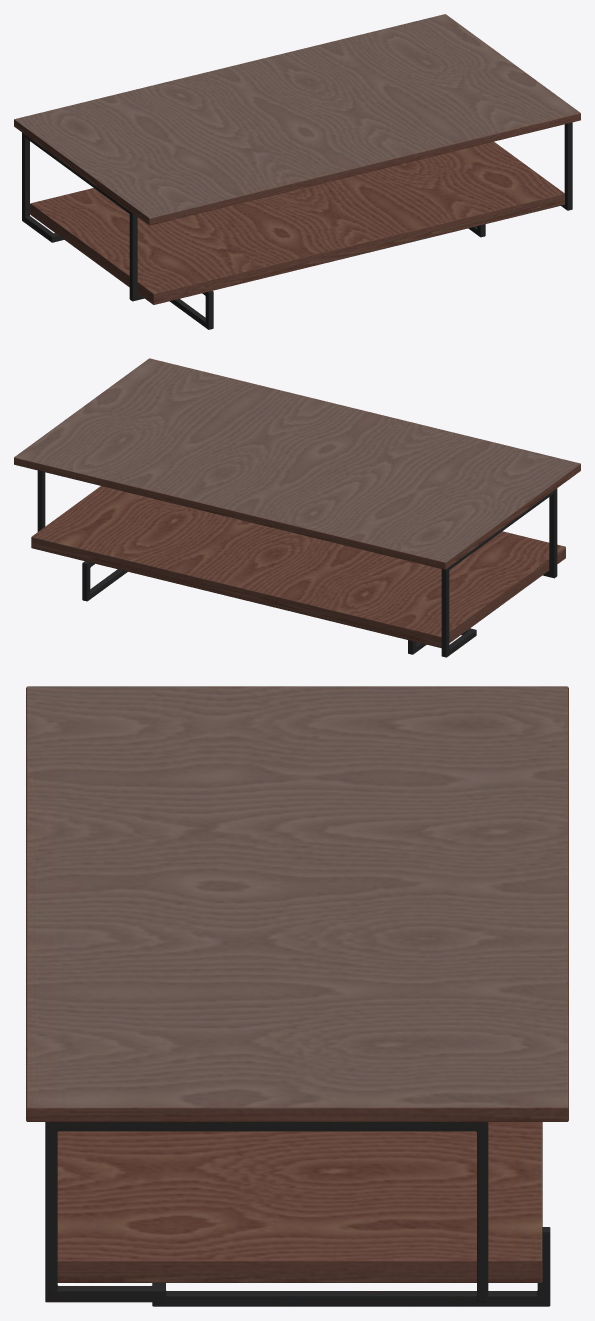
The model's file is abo_B07GF51SLB.glb.
The picture shows the model from 3 angles, top to bottom: view 1: azimuth 30°, elevation 25°; view 2: azimuth 150°, elevation 25°; view 3: azimuth 270°, elevation 25°; orthographic projection. The views are drawn at different scales.
Visible parts, largest first — view 1: RootNode; view 2: RootNode; view 3: RootNode.
Boxes of the visible parts, x1=… form: RootNode: x1=14, y1=14, x2=580, y2=329; RootNode: x1=14, y1=358, x2=580, y2=657; RootNode: x1=26, y1=686, x2=568, y2=1306.
Size of the model in its own units: 1.2 by 0.3468 by 0.6511.
1 material, 1 textured.
